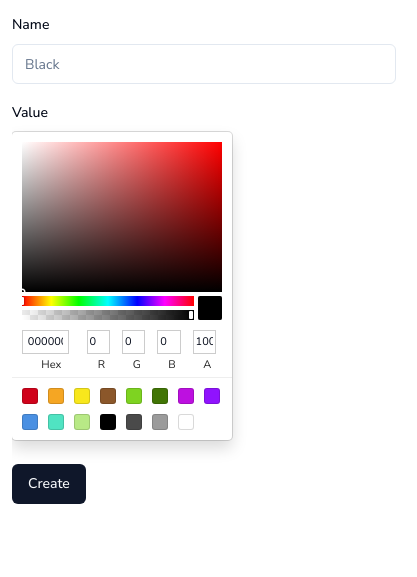
Test: Add and update color form for sellers › Validates required fields before submission
# Simulate form submission without filling out the fields
Click the button "Create": (49,484) [12,464,86,504]
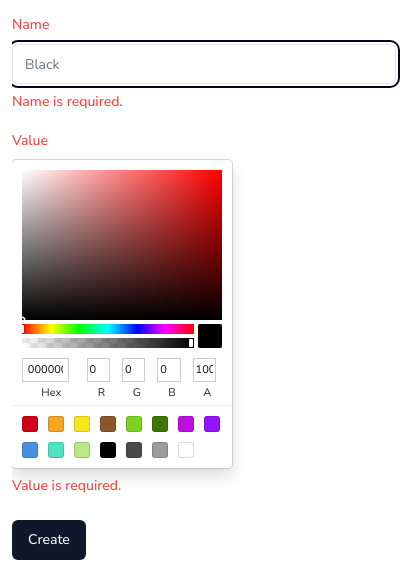
Expected: the text "Name is required." is shown, [12,92,123,111]
Expected: the text "Value is required." is shown, [12,476,121,495]
